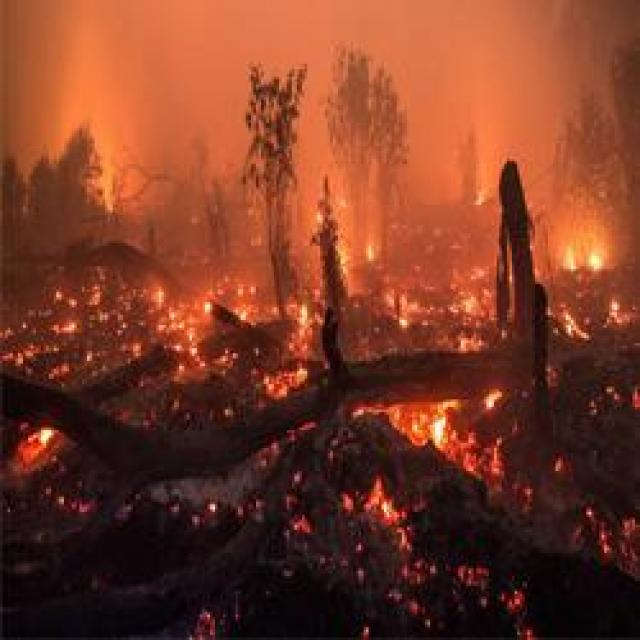fire: (53, 142, 529, 460)
